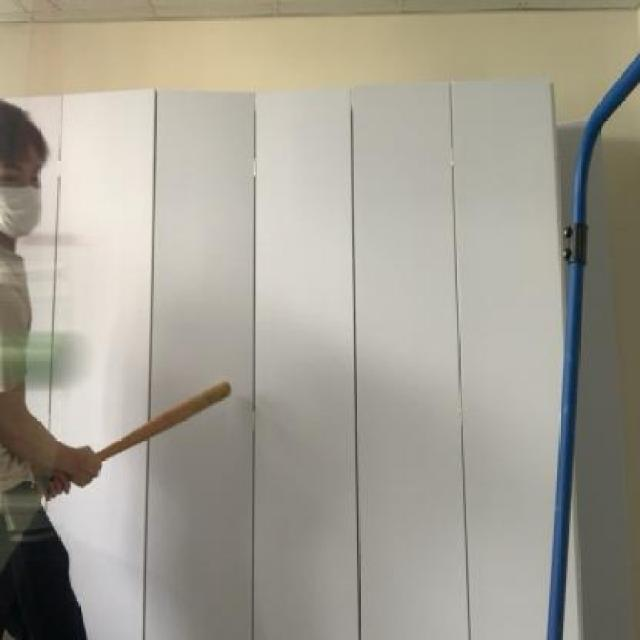baseball: (0, 318, 98, 401)
